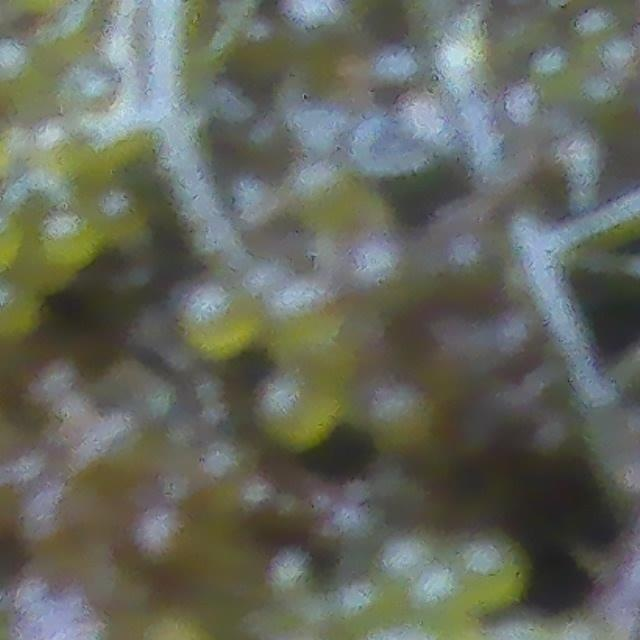SeaGrape: (264, 373, 345, 443), (473, 533, 536, 606), (191, 280, 254, 350), (280, 279, 347, 344), (378, 379, 438, 449), (415, 573, 478, 631), (0, 287, 43, 343)
